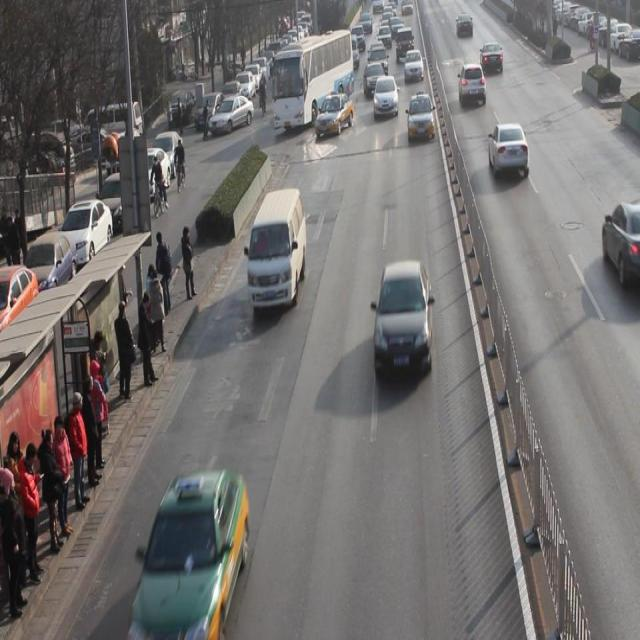car: (133, 466, 250, 640), (374, 260, 433, 374), (602, 198, 640, 288), (488, 122, 529, 177), (314, 92, 354, 137), (407, 92, 436, 142), (458, 60, 487, 106), (374, 74, 399, 118), (363, 61, 387, 98), (481, 40, 503, 76), (404, 47, 425, 82)
truck: (248, 187, 306, 311)
van: (272, 31, 354, 129)
